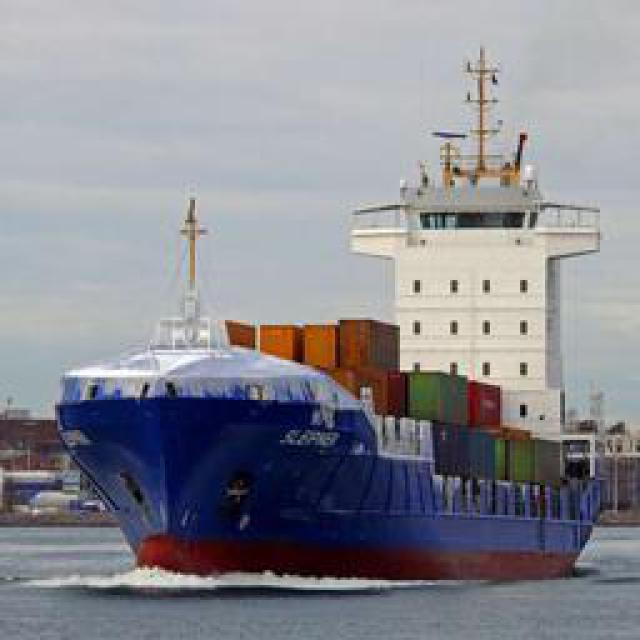Ship: (60, 98, 603, 573)
